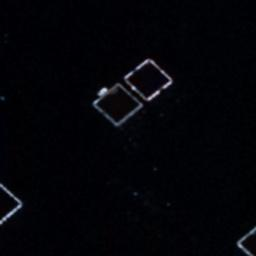square_solid: (120, 54, 174, 104), (89, 79, 144, 128), (1, 180, 27, 230), (232, 221, 256, 256)
